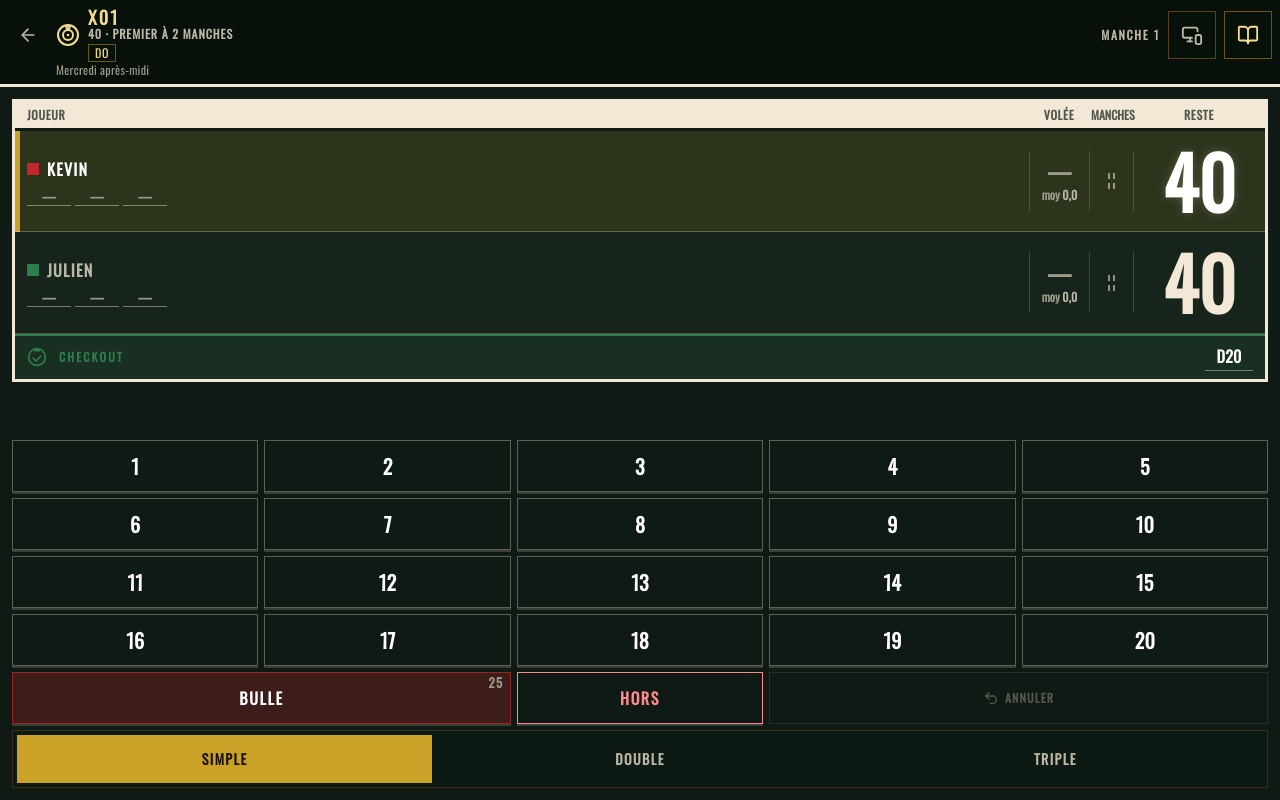
Scenario: La boîte de confirmation de la sortie (forme B) › X01 : « Kevin sort sur D10 ? », rien d’écrit ni de dit avant de valider
Expected: the element named "Score restant de Kevin" reads "40", [1163,127,1236,234]
Click the button "20": (1145, 640) [1022,614,1268,666]
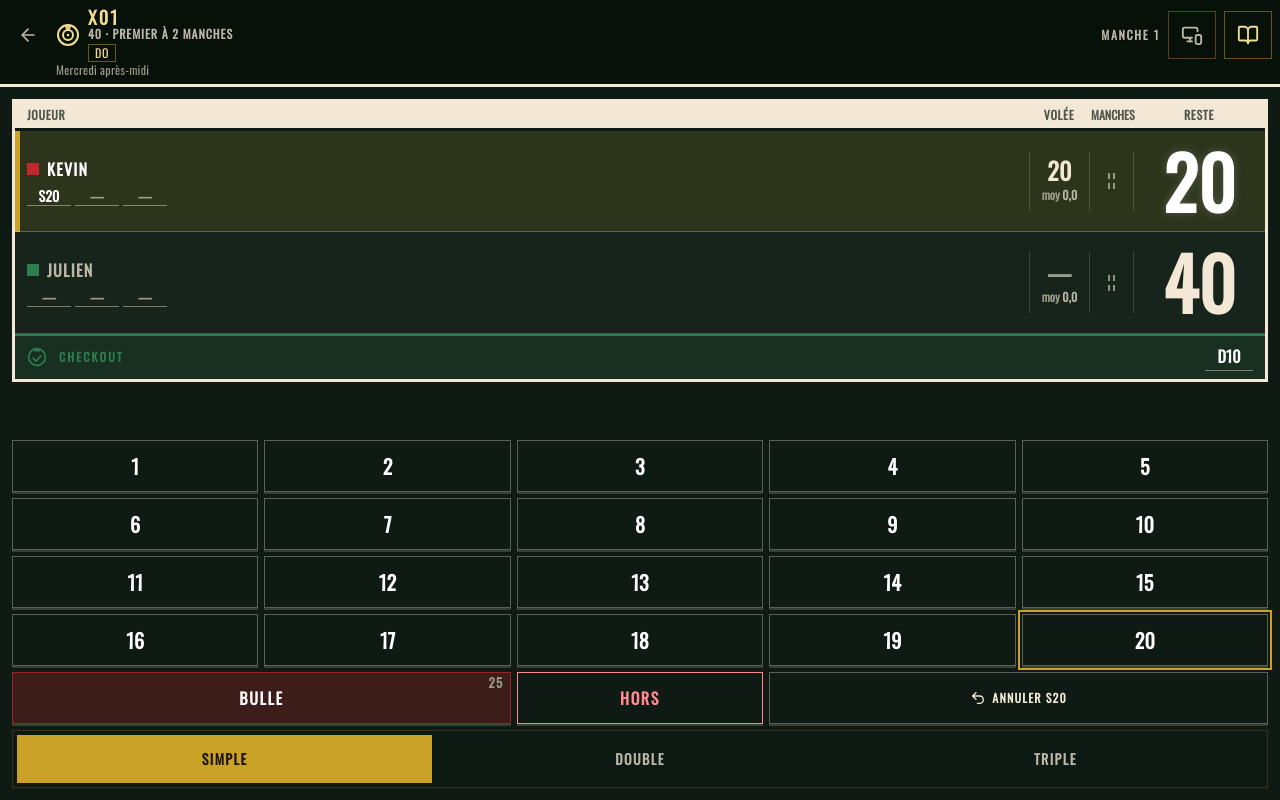
Click the button "Double": (640, 759) [432,735,848,783]
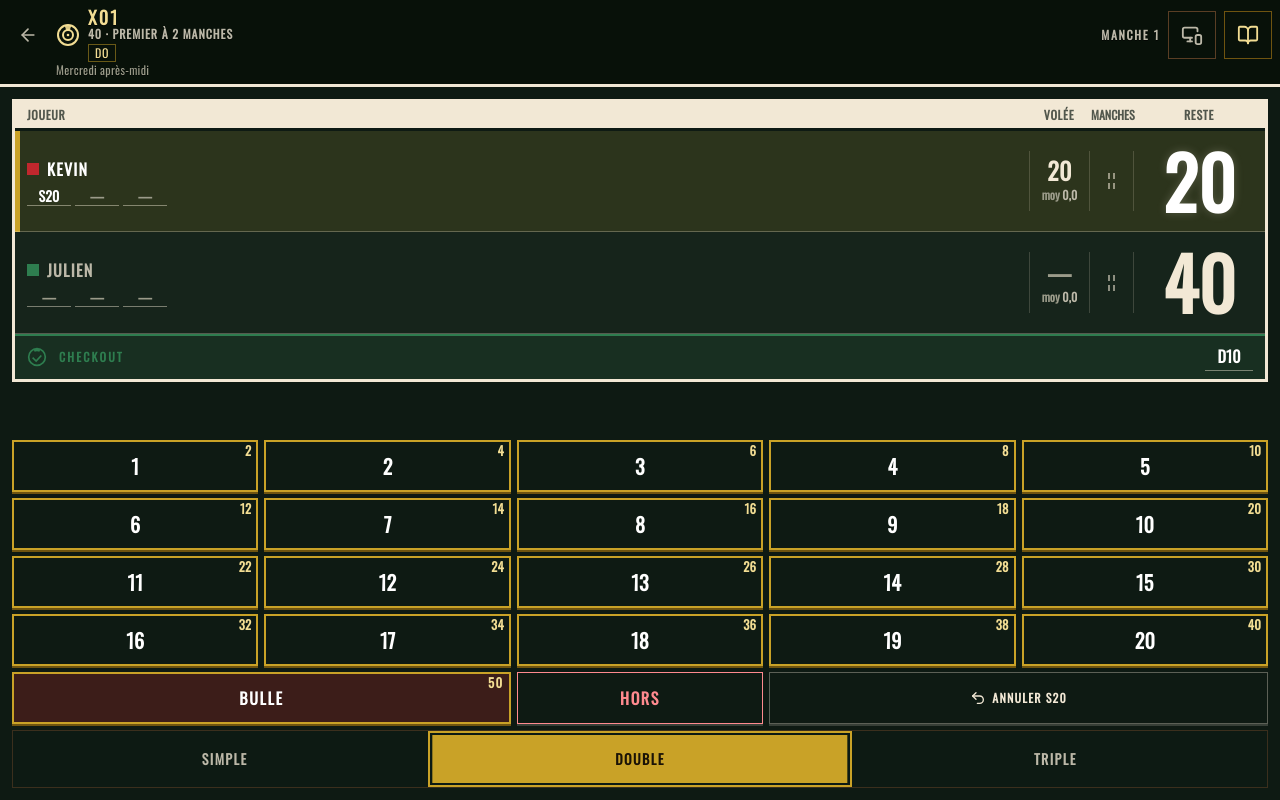
Click the button "20 10": (1145, 524) [1022,498,1268,550]
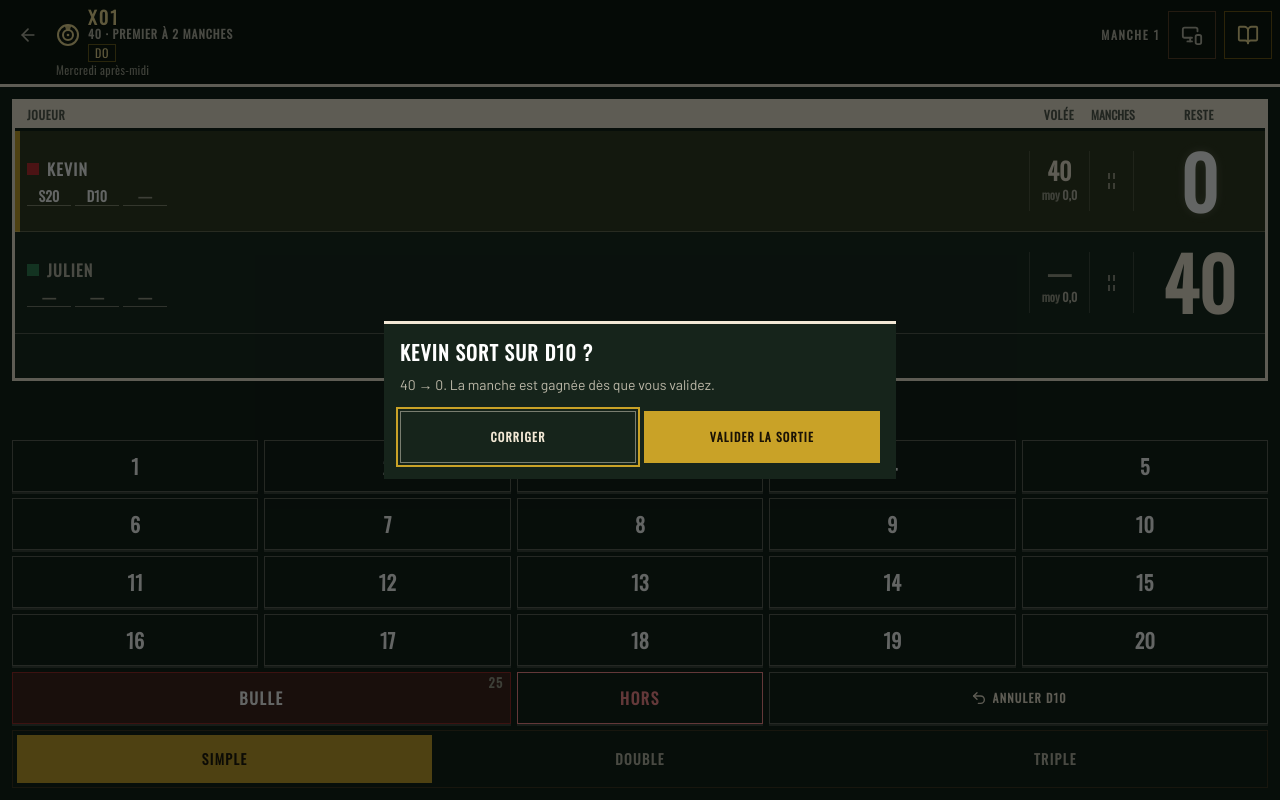
Result: the dialog "Kevin sort sur D10 ?" shows "40 → 0. La manche est gagnée dès que vous validez." at [400,376,715,393]
Result: the element named "Score restant de Kevin" reads "0" at [1180,127,1218,234]
Click the button "Valider la sortie": (762, 437) [644,411,880,463]
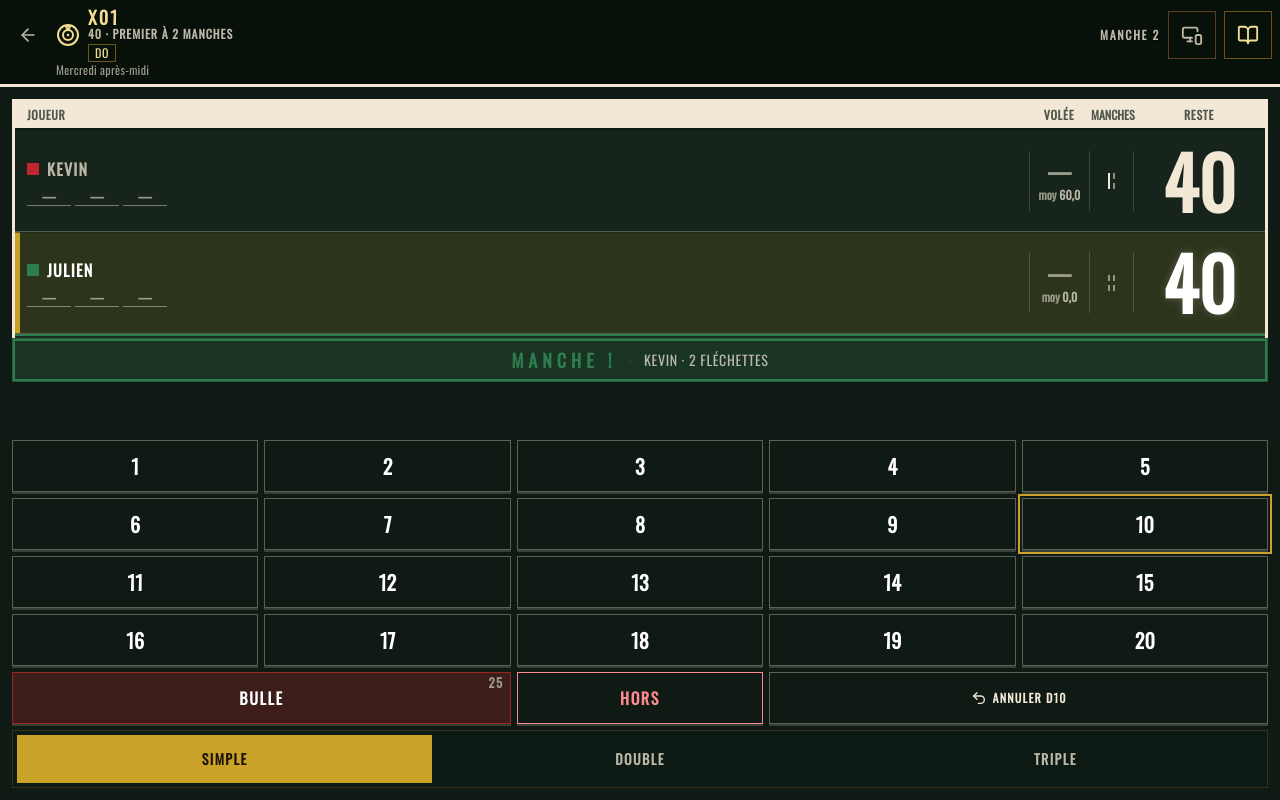
Result: the text "Manche !" is shown at [511,346,616,374]
Result: the dialog is gone
